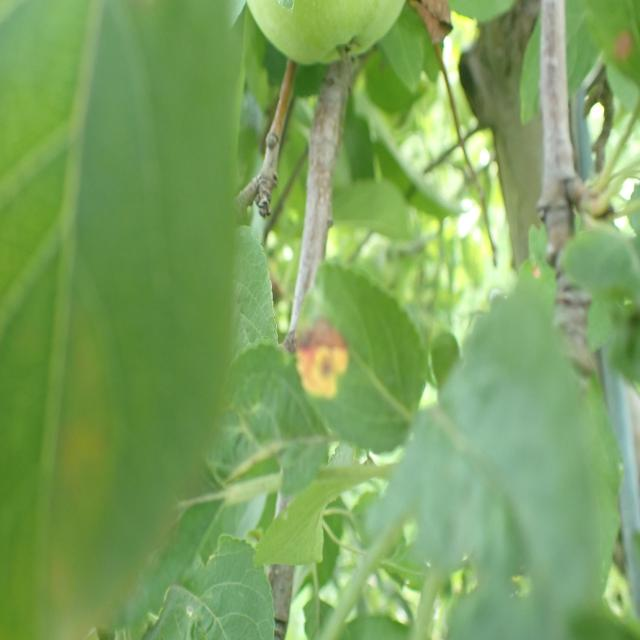Rust: (286, 313, 352, 405)
